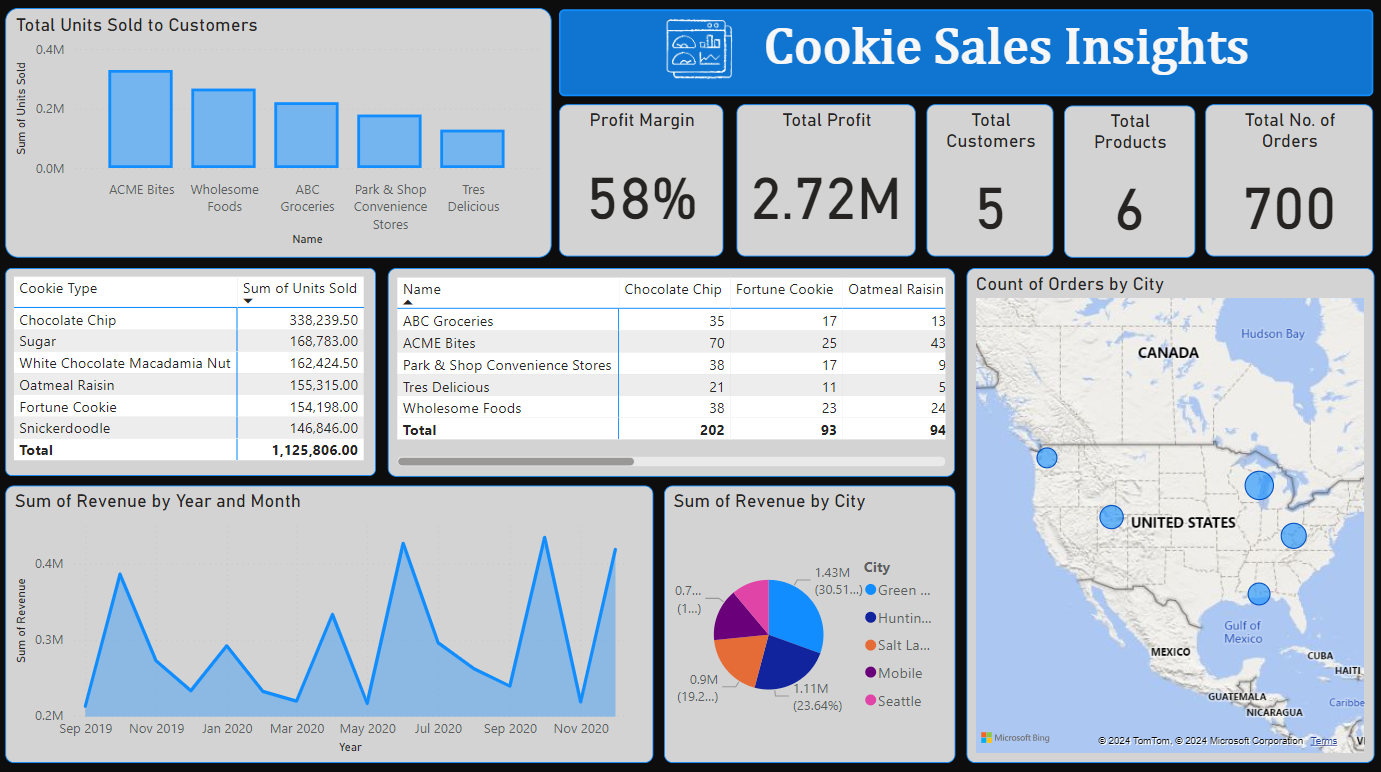

What the dashboard file says about the page in this screenshot:
{"tool":"powerbi","page":{"name":"Page 1","canvas":[1280,720],"ordinal":0},"visuals":[{"type":"textbox","box":[520,14.4,748.9,80],"z":0},{"type":"card","title":"Total No. of Orders","fields":{"Values":["Orders.Order ID"]},"box":[1114.3,102.9,154.3,140],"z":1000},{"type":"card","title":"Total Customers","fields":{"Values":["Customers.Customer ID"]},"box":[858,102.3,117,139.8],"z":2000},{"type":"card","title":"Total Products","fields":{"Values":["Cookie Types.Cookie Type"]},"box":[984.1,103.4,120.5,139.8],"z":3000},{"type":"map","title":"Count of Orders by City","fields":{"Size":["Orders.Order ID"],"Category":["Customers.City"]},"box":[893.8,253.1,375.3,455.6],"z":4000},{"type":"pivotTable","fields":{"Rows":["Cookie Types.Cookie Type"],"Values":["Orders.Units Sold"]},"box":[9.9,253.1,340.7,191.4],"z":5000},{"type":"columnChart","title":"Total Units Sold to Customers","fields":{"Category":["Customers.Name"],"Y":["Orders.Units Sold"]},"box":[10,13.4,502,229.3],"z":6000},{"type":"card","title":"Total Profit","fields":{"Values":["Cookie Types.Total Profit"]},"box":[682.5,102.5,165,140],"z":7000},{"type":"stackedAreaChart","fields":{"Category":["Orders.Date.Variation.Date Hierarchy.Year","Orders.Date.Variation.Date Hierarchy.Month"],"Y":["Orders.Revenue"]},"box":[9.9,453.1,596.3,255.6],"z":8000},{"type":"card","title":"Profit Margin","fields":{"Values":["Cookie Types.Profit Margin %"]},"box":[520,102.9,151.4,140],"z":9000},{"type":"pieChart","fields":{"Category":["Customers.City"],"Y":["Orders.Revenue"]},"box":[616,453.1,267.9,255.6],"z":10000},{"type":"pivotTable","fields":{"Rows":["Customers.Name"],"Columns":["Cookie Types.Cookie Type"],"Values":["Orders.Order ID"]},"box":[362.1,252.9,521.8,192],"z":11000},{"type":"image","box":[595.5,0,105.7,103.4],"z":12000}]}

Visuals, with their boxes in screenshot pixels (x1, y1, x2, y2), scaled from the page's 1280x720 canvas onto the 1381x772 screenshot:
textbox: bbox=(561, 15, 1369, 101)
"Total No. of Orders" card: bbox=(1202, 110, 1369, 260)
"Total Customers" card: bbox=(926, 110, 1052, 260)
"Total Products" card: bbox=(1062, 111, 1192, 261)
"Count of Orders by City" map: bbox=(964, 271, 1369, 760)
pivotTable - Cookie Types.Cookie Type x Orders.Units Sold: bbox=(11, 271, 378, 477)
"Total Units Sold to Customers" columnChart: bbox=(11, 14, 552, 260)
"Total Profit" card: bbox=(736, 110, 914, 260)
stackedAreaChart - Orders.Date.Variation.Date Hierarchy.Year x Orders.Date.Variation.Date Hierarchy.Month: bbox=(11, 486, 654, 760)
"Profit Margin" card: bbox=(561, 110, 724, 260)
pieChart - Customers.City x Orders.Revenue: bbox=(665, 486, 954, 760)
pivotTable - Customers.Name x Cookie Types.Cookie Type: bbox=(391, 271, 954, 477)
image: bbox=(642, 0, 757, 111)
